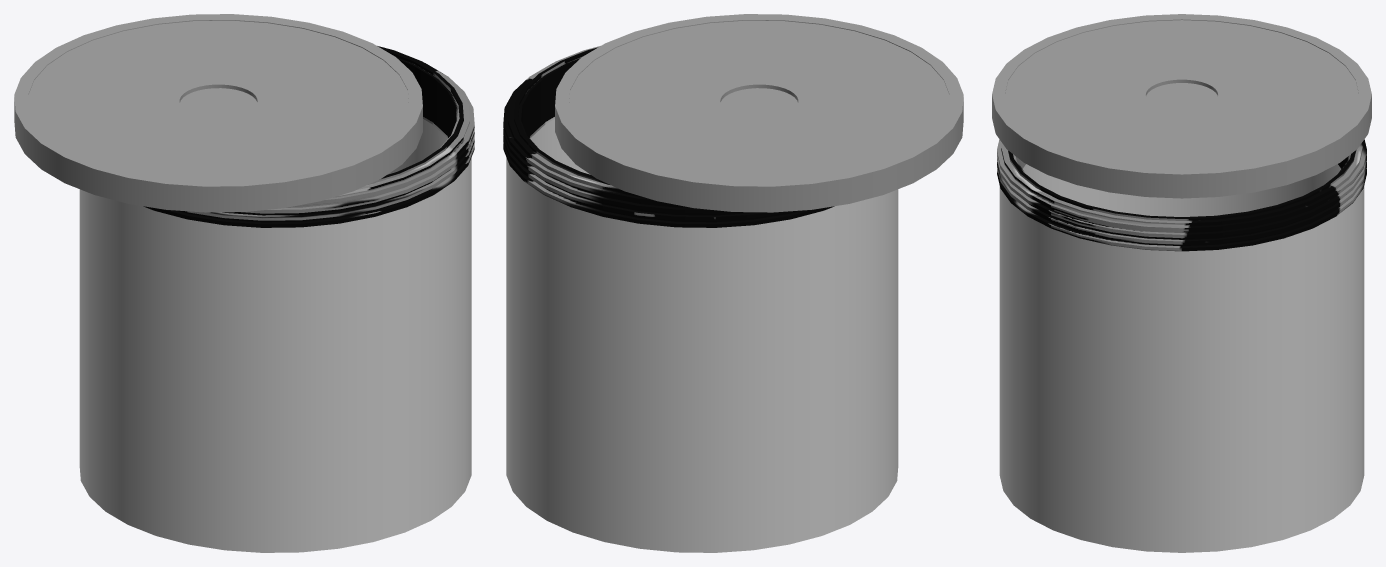
The model's file is Paint Box.fbx.
3 views of the same model, side by side, from view 1: azimuth 30°, elevation 25°; view 2: azimuth 150°, elevation 25°; view 3: azimuth 270°, elevation 25° (orthographic). The views are drawn at different scales.
Parts seen in each view (by area): view 1: Paint Drum, Paint Lid, Paint Drum.001; view 2: Paint Drum, Paint Lid, Paint Drum.001; view 3: Paint Drum, Paint Lid, Paint Drum.001.
Part boxes in pixels (x1,y1,x2,y2): Paint Drum: (79, 119, 471, 552); Paint Lid: (14, 14, 422, 212); Paint Drum.001: (143, 46, 474, 227); Paint Drum: (506, 119, 898, 552); Paint Lid: (555, 14, 963, 212); Paint Drum.001: (503, 46, 834, 227); Paint Drum: (999, 164, 1364, 552); Paint Lid: (992, 14, 1371, 198); Paint Drum.001: (997, 139, 1366, 251).
Bounding box in the file's own units: 31.95 × 28.77 × 27.83.
3 materials, 1 textured.
